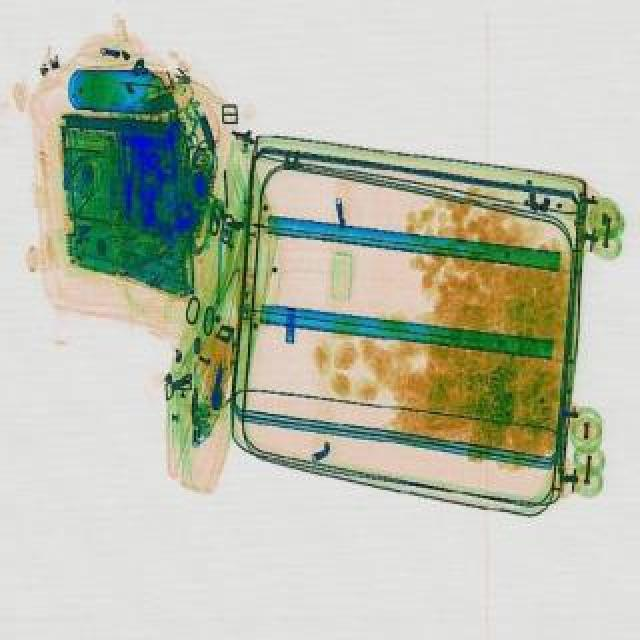wrench: (120, 138, 136, 222)
